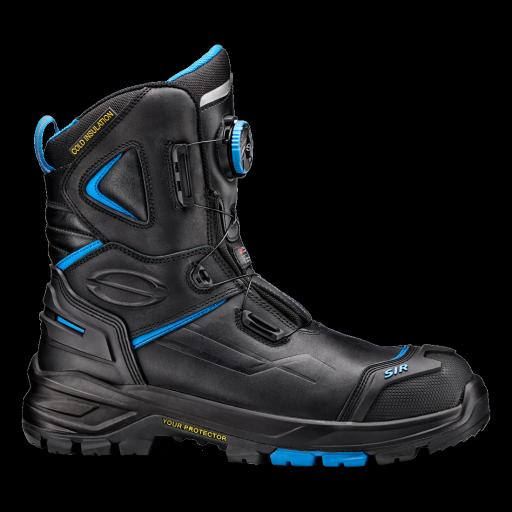safety_boots: (26, 47, 498, 471)
